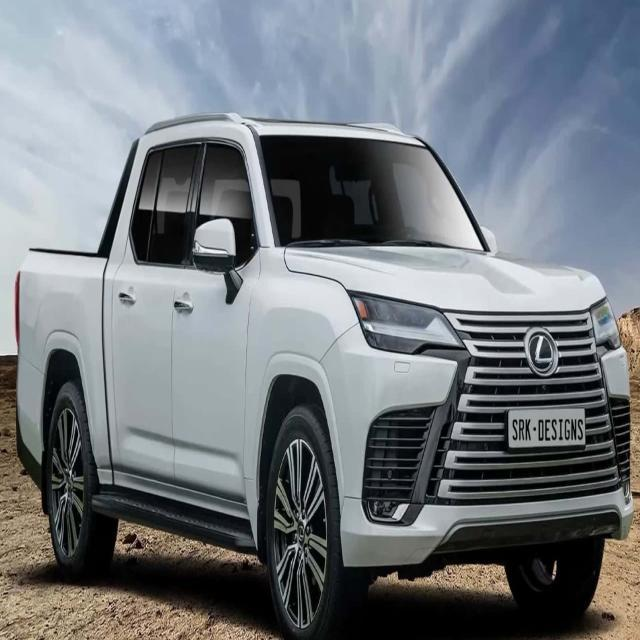person: (14, 110, 634, 638)
